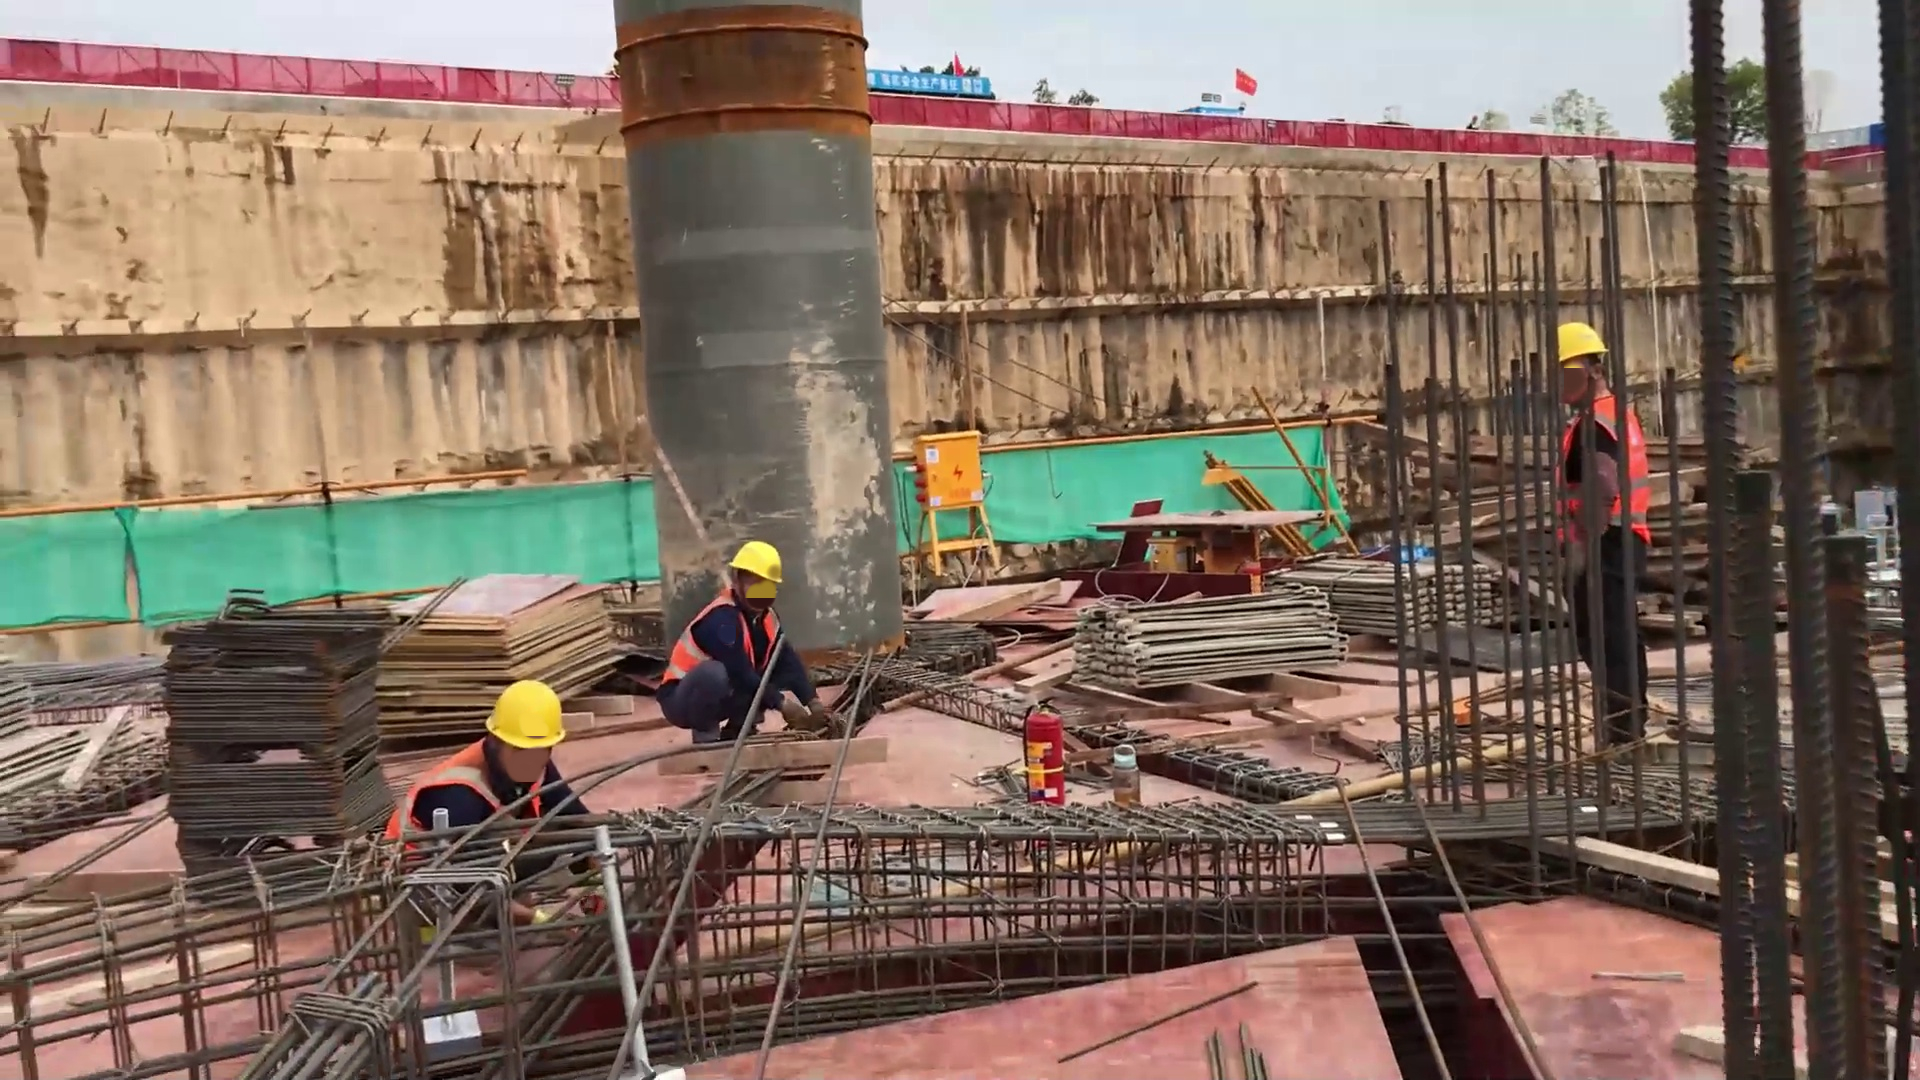board: (384, 573, 619, 737)
ebox: (902, 425, 1006, 576), (1142, 535, 1191, 573)
helmet: (484, 679, 565, 749), (728, 540, 784, 586), (1558, 321, 1609, 363)
person: (1546, 319, 1657, 766), (655, 537, 844, 743), (382, 675, 592, 841)
slogan: (866, 69, 989, 98)
vest: (382, 743, 540, 842), (659, 597, 788, 704), (1557, 401, 1649, 549)
